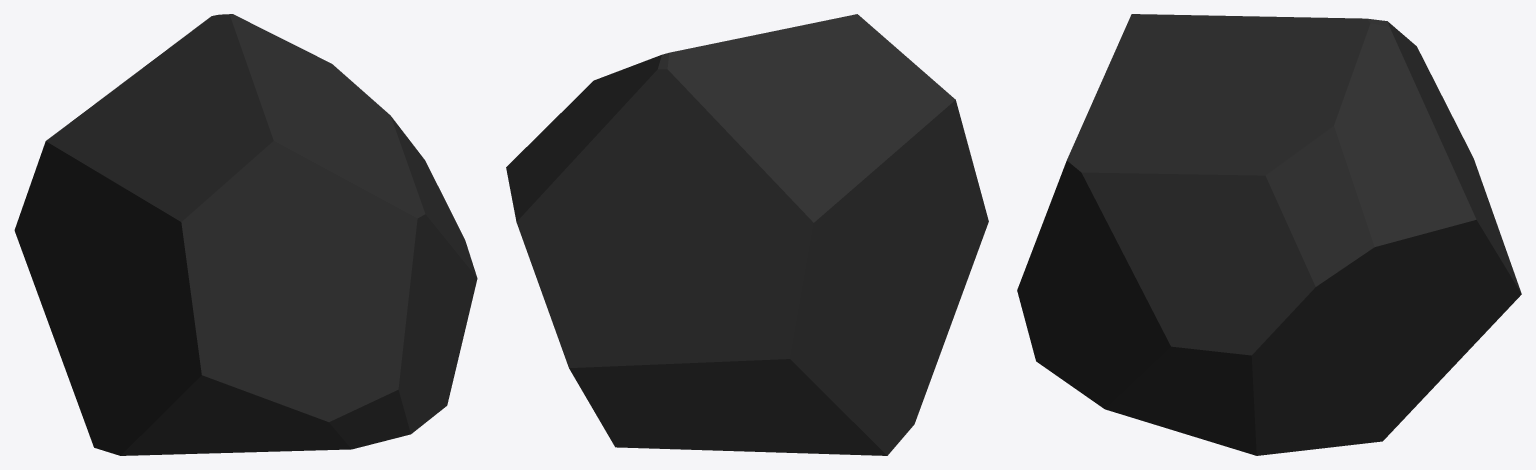
The model's file is StoneMediumSmall5.fbx.
The picture shows the model from 3 angles, left to right: view 1: azimuth 30°, elevation 25°; view 2: azimuth 150°, elevation 25°; view 3: azimuth 270°, elevation 25°; orthographic projection. The views are drawn at different scales.
Parts seen in each view (by area): view 1: StoneMediumSmall5; view 2: StoneMediumSmall5; view 3: StoneMediumSmall5.
Part boxes in pixels (box(x1,y1,x2,y2)): StoneMediumSmall5: box(14, 14, 477, 455); StoneMediumSmall5: box(506, 14, 988, 455); StoneMediumSmall5: box(1017, 14, 1521, 455).
Size of the model in its own units: 187 by 192 by 219.
Materials: 1 (1 with a texture image).
